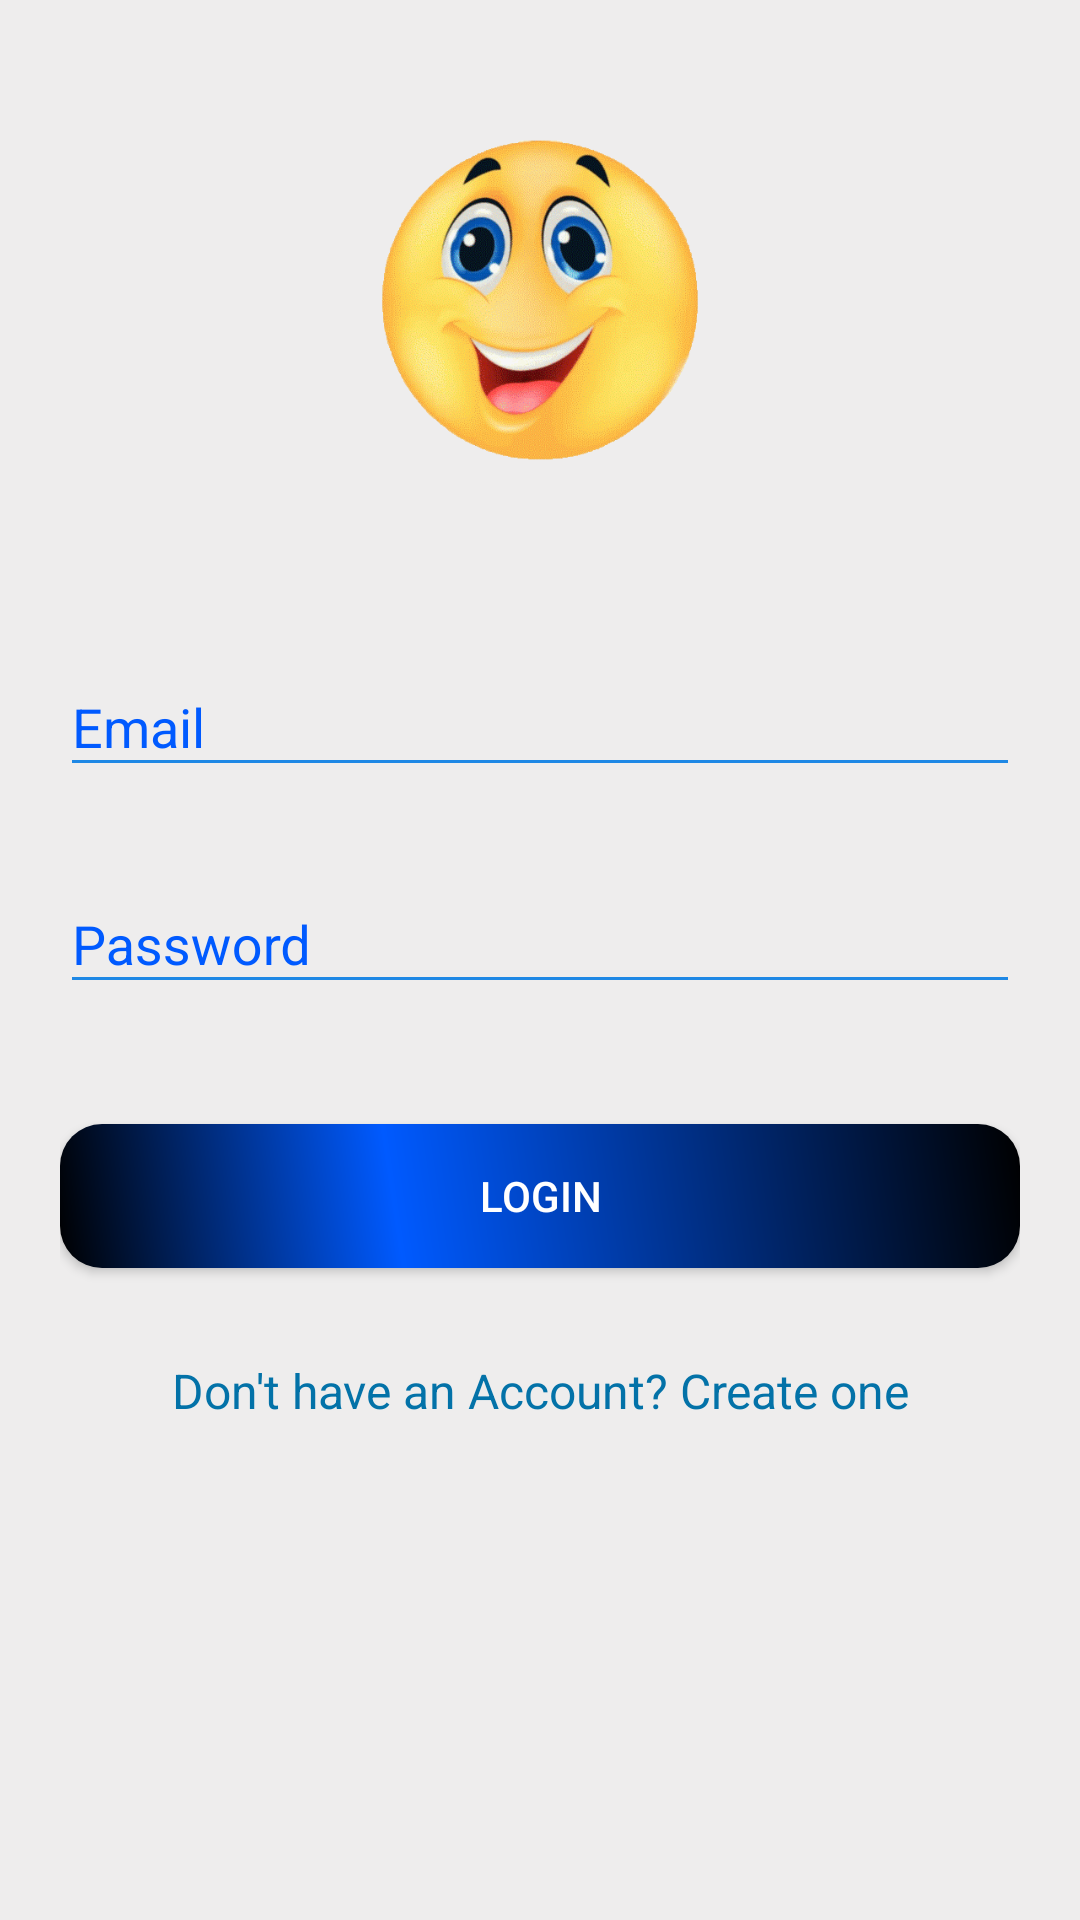

Icons on this 1080w x 1920h Android screen, each with the point to tap as (x,y):
emoo: (540,300)
